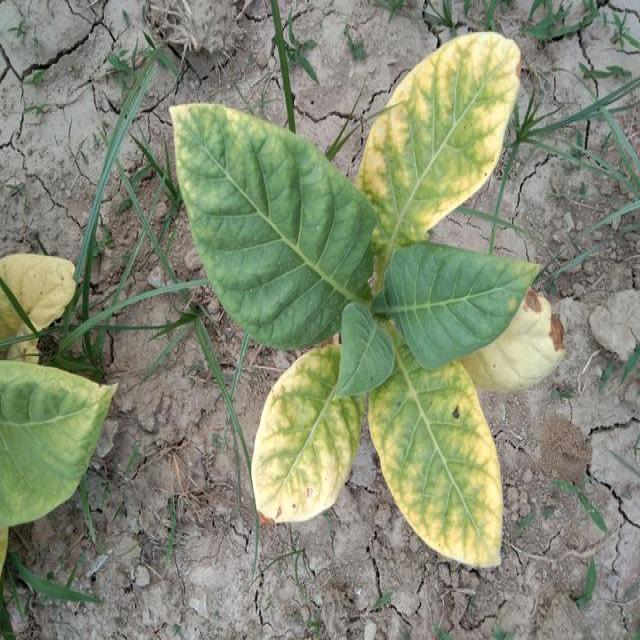crop: (164, 32, 526, 565), (1, 248, 111, 570)
